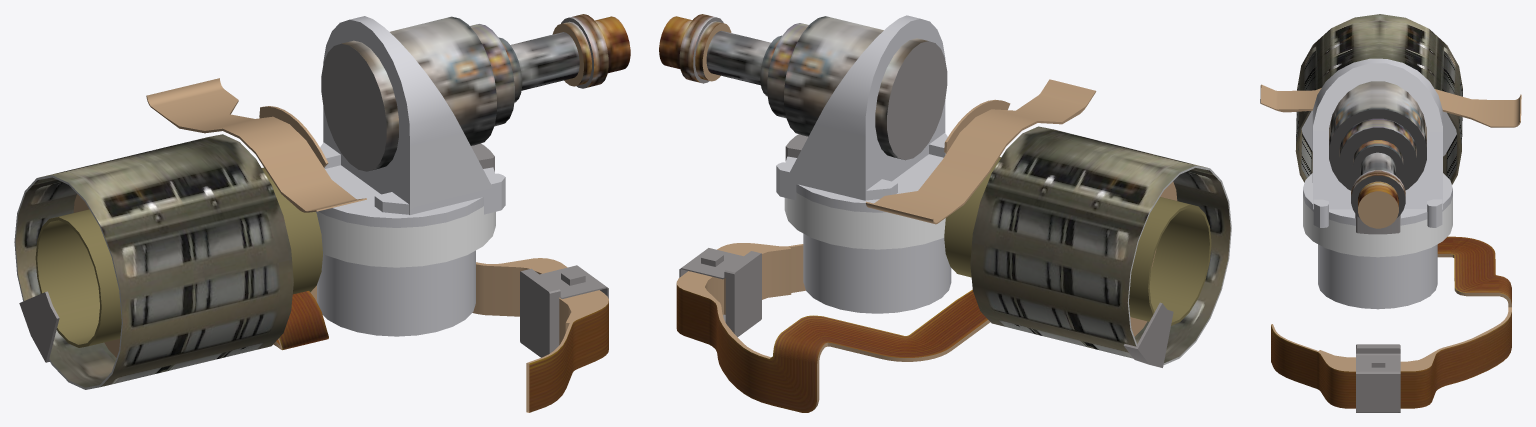
File: cam0_joint.glb
3 views of the same model, side by side, from view 1: azimuth 30°, elevation 25°; view 2: azimuth 150°, elevation 25°; view 3: azimuth 270°, elevation 25° (orthographic). The views are drawn at different scales.
Visible parts, largest first — view 1: top.001, head.003; view 2: top.001, head.003; view 3: top.001, head.003.
Part boxes in pixels (x1,y1,x2,y2): top.001: (273, 14, 630, 412); head.003: (14, 78, 366, 389); top.001: (659, 14, 990, 412); head.003: (866, 79, 1231, 367); top.001: (1271, 58, 1511, 412); head.003: (1260, 14, 1521, 184).
Bounding box in the file's own units: 0.4438 × 0.2839 × 0.2422.
8 materials, 2 textured.
